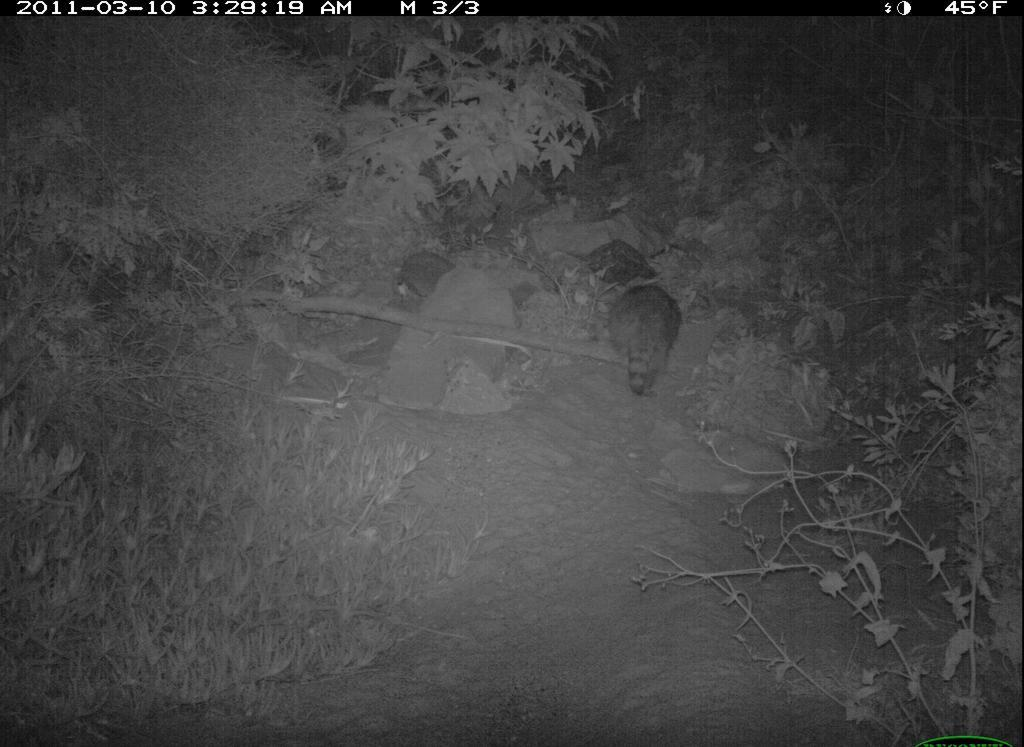raccoon: (601, 264, 694, 402)
